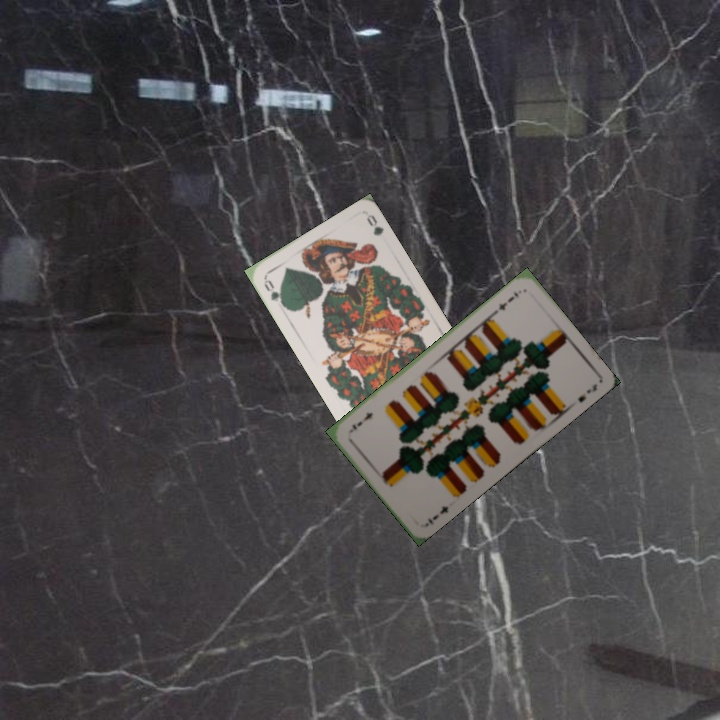E7: (490, 287, 521, 316), (423, 502, 451, 528)
GO: (260, 274, 288, 310)
